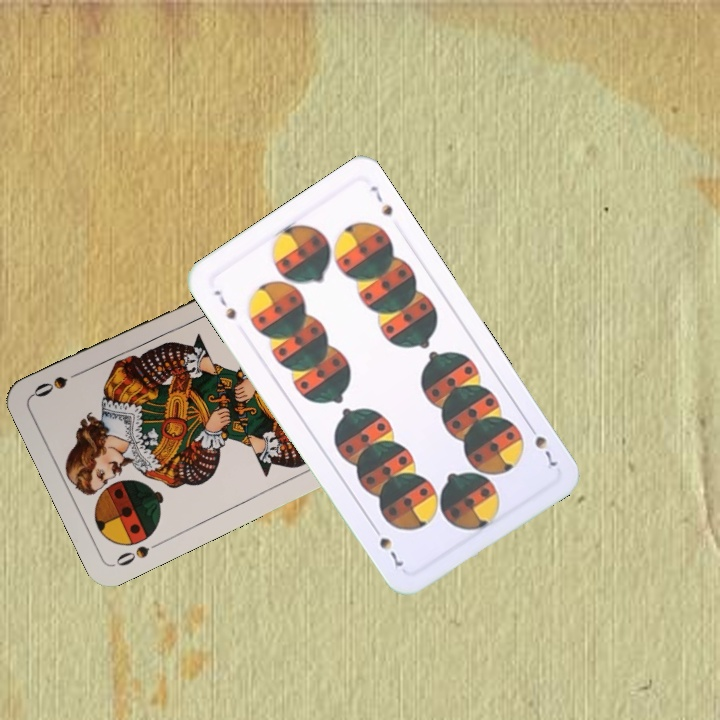S7: (523, 419, 560, 470), (210, 286, 239, 323)
SO: (112, 537, 166, 569)
